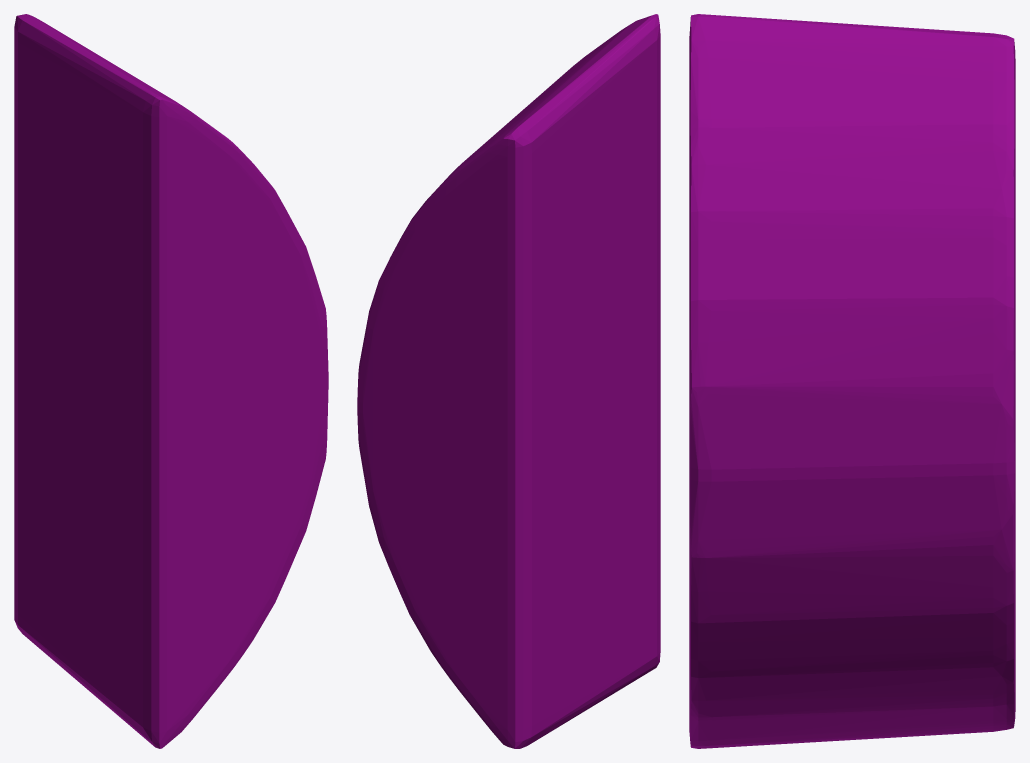
The model's file is left_forearm_collision_part_14.obj.
3 renders of one model, left to right at view 1: azimuth 30°, elevation 25°; view 2: azimuth 150°, elevation 25°; view 3: azimuth 270°, elevation 25°, orthographic. The views are drawn at different scales.
Size of the model in its own units: 34.41 by 119 by 47.87.
